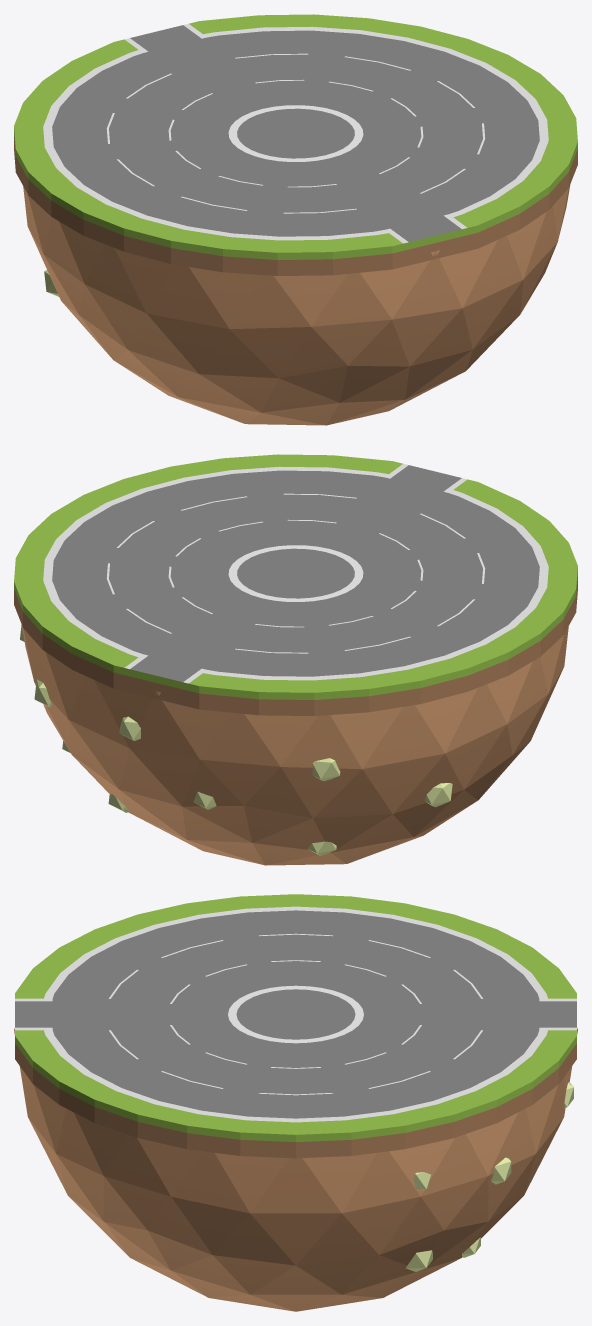
The model's file is Island 1.fbx.
3 renders of one model, top to bottom at view 1: azimuth 30°, elevation 25°; view 2: azimuth 150°, elevation 25°; view 3: azimuth 270°, elevation 25°, orthographic.
Visible parts, largest first — view 1: Island, Ground; view 2: Island, Ground; view 3: Island, Ground.
Boxes of the visible parts, x1=… form: Island: x1=14, y1=14, x2=577, y2=275; Ground: x1=23, y1=185, x2=570, y2=425; Island: x1=14, y1=454, x2=577, y2=715; Ground: x1=21, y1=625, x2=568, y2=865; Island: x1=15, y1=894, x2=576, y2=1158; Ground: x1=14, y1=1028, x2=577, y2=1311.
Size of the model in its own units: 2 by 1.05 by 1.98.
